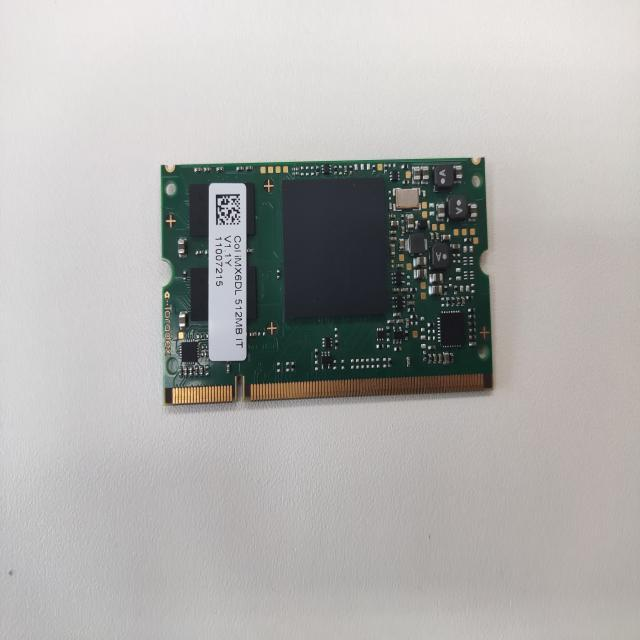som: (149, 154, 498, 408)
